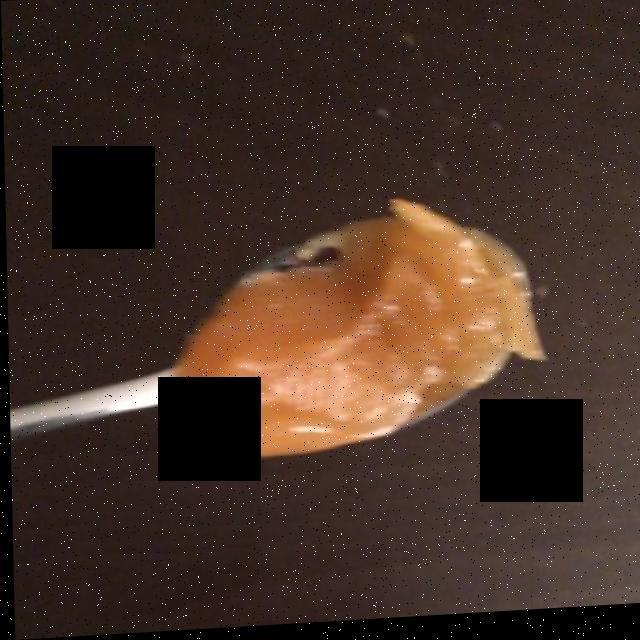honey: (171, 205, 533, 457)
